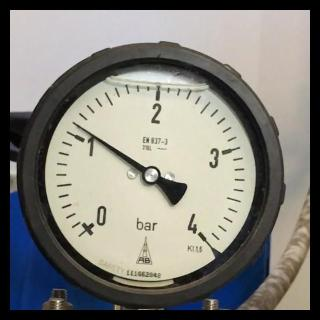gauge: (11, 13, 308, 309), (74, 210, 106, 242), (186, 220, 214, 248), (141, 164, 161, 187), (70, 119, 82, 130)
